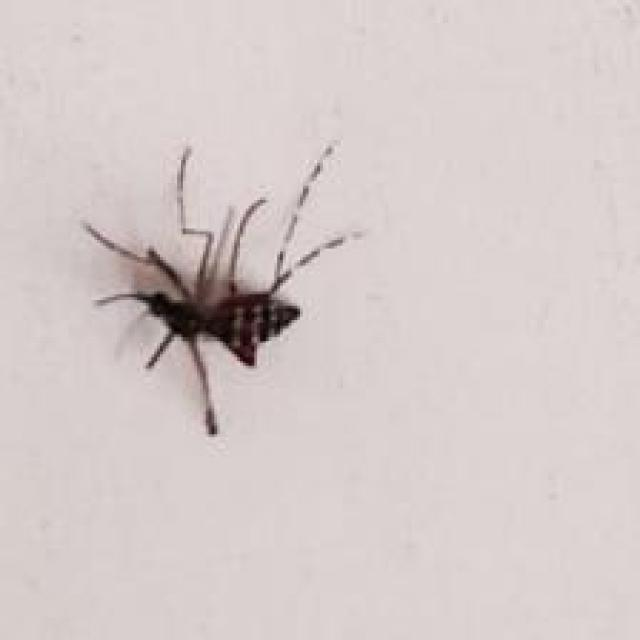Aedes albopictus: (82, 137, 364, 437)
